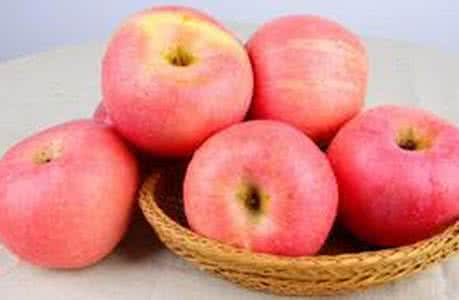apple: (96, 5, 249, 142), (190, 122, 336, 252), (330, 101, 459, 245), (1, 122, 130, 264), (234, 13, 372, 130)
